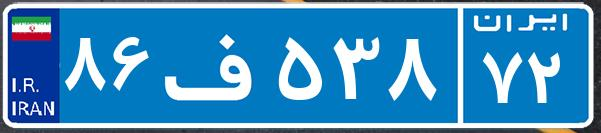2: (525, 38, 570, 115)
3: (330, 28, 385, 110)
5: (273, 28, 330, 110)
6: (110, 28, 158, 105)
7: (475, 38, 525, 113)
8: (385, 28, 445, 110), (57, 26, 110, 107)
ف: (158, 15, 273, 115)
